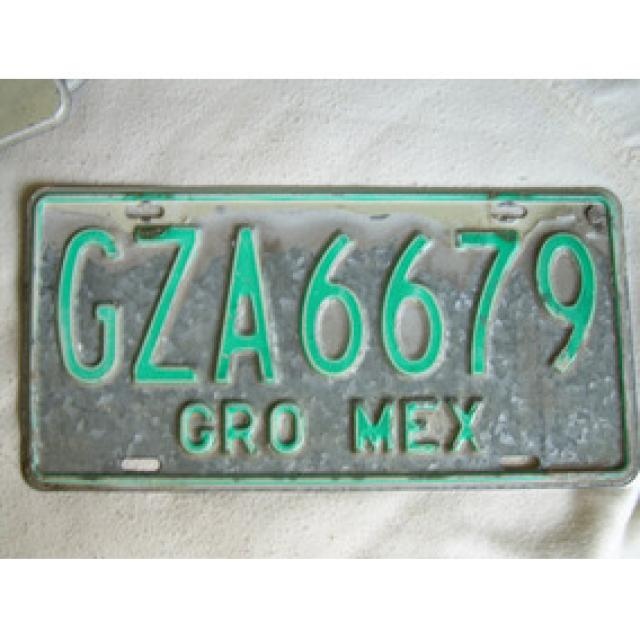placa: (23, 208, 634, 382)
